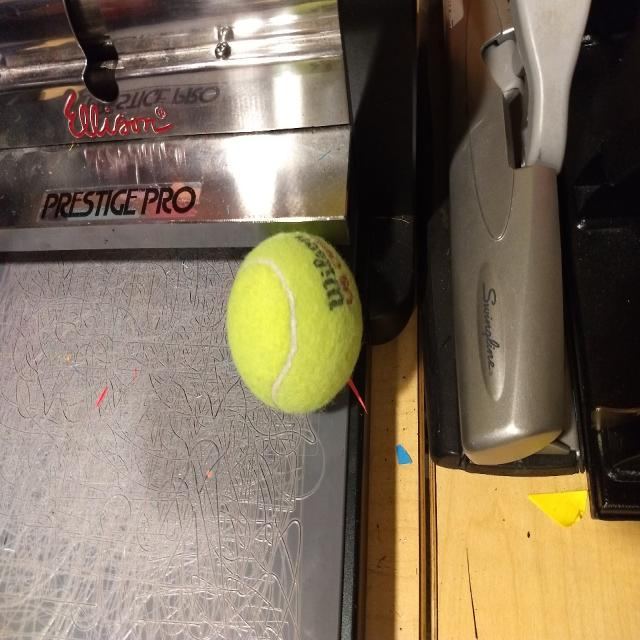tennis-ball: (228, 229, 365, 416)
